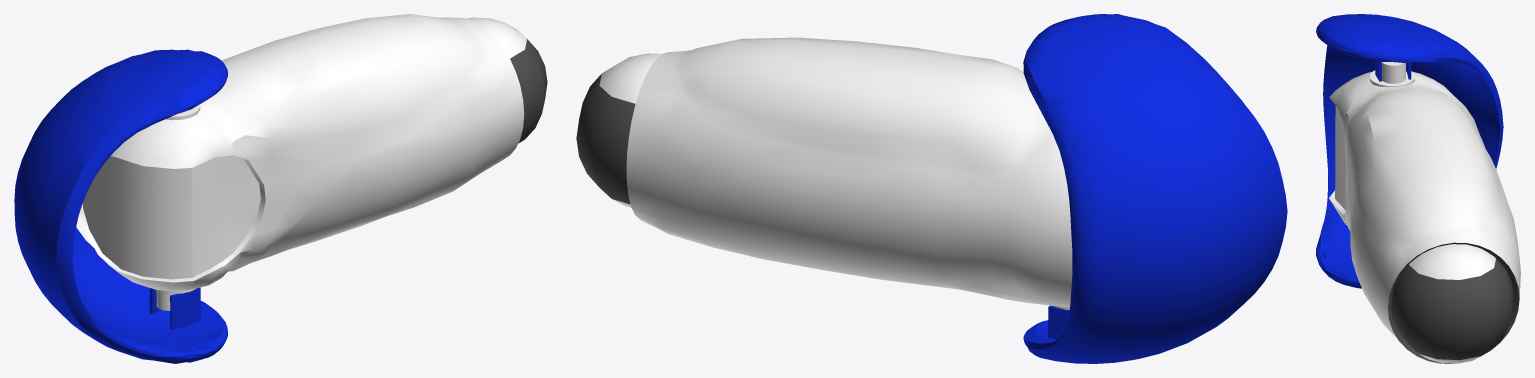
Rendered from LShoulderRoll.dae.
3 views of the same model, side by side, from view 1: azimuth 30°, elevation 25°; view 2: azimuth 150°, elevation 25°; view 3: azimuth 270°, elevation 25° (orthographic). The views are drawn at different scales.
Visible parts, largest first — view 1: LShoulderRoll; view 2: LShoulderRoll; view 3: LShoulderRoll.
Boxes of the visible parts, box(x1,y1,x2,y2) form: LShoulderRoll: box(14, 14, 547, 363); LShoulderRoll: box(576, 14, 1287, 363); LShoulderRoll: box(1316, 14, 1520, 363).
Size of the model in its own units: 0.1695 by 0.0613 by 0.0817.
Materials: 1 (1 with a texture image).
